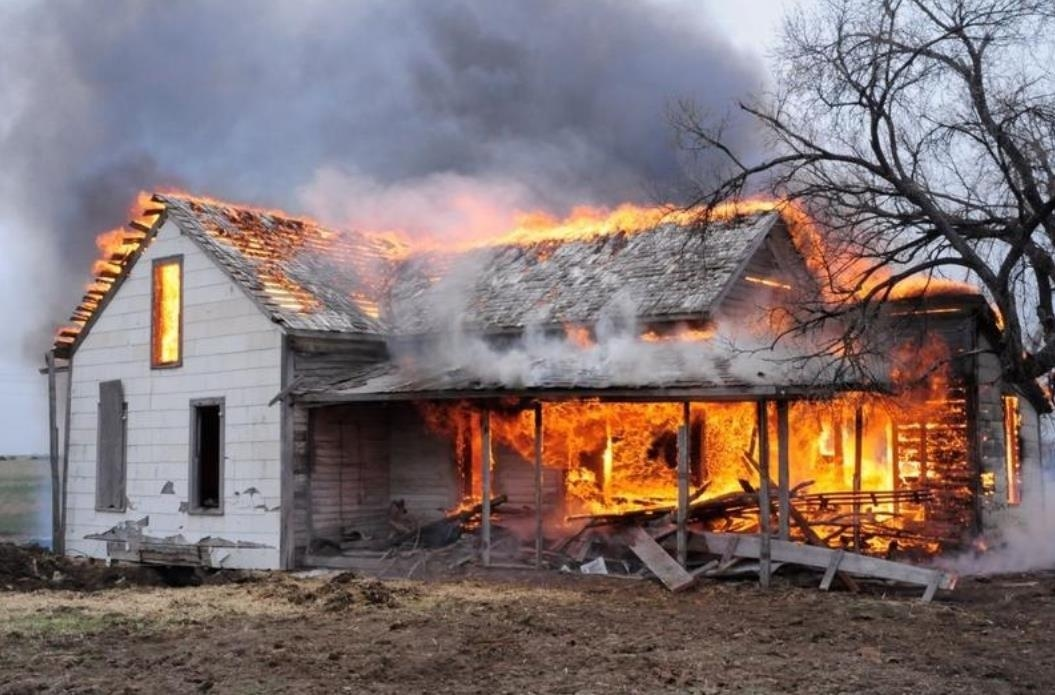fire: (430, 195, 1003, 556)
